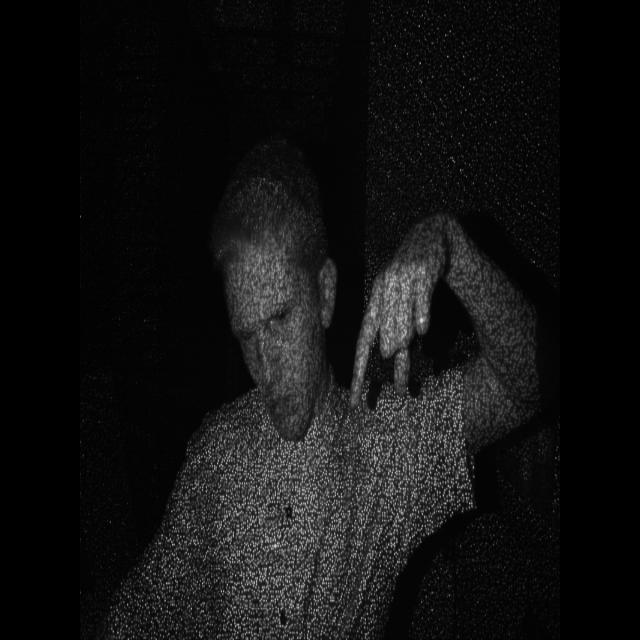Q: (350, 202, 483, 424)
